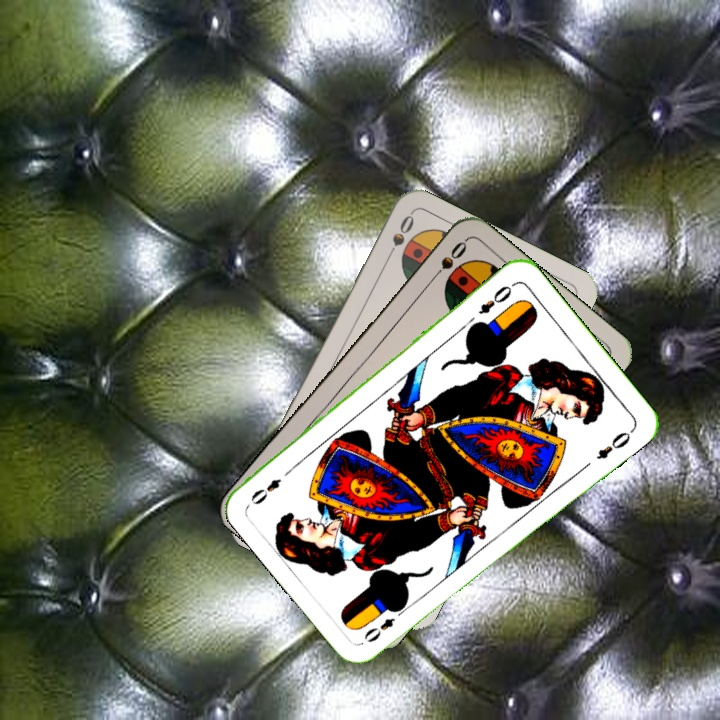EO: (360, 603, 409, 646), (474, 278, 518, 317)
SO: (425, 237, 470, 286), (381, 210, 417, 265)
